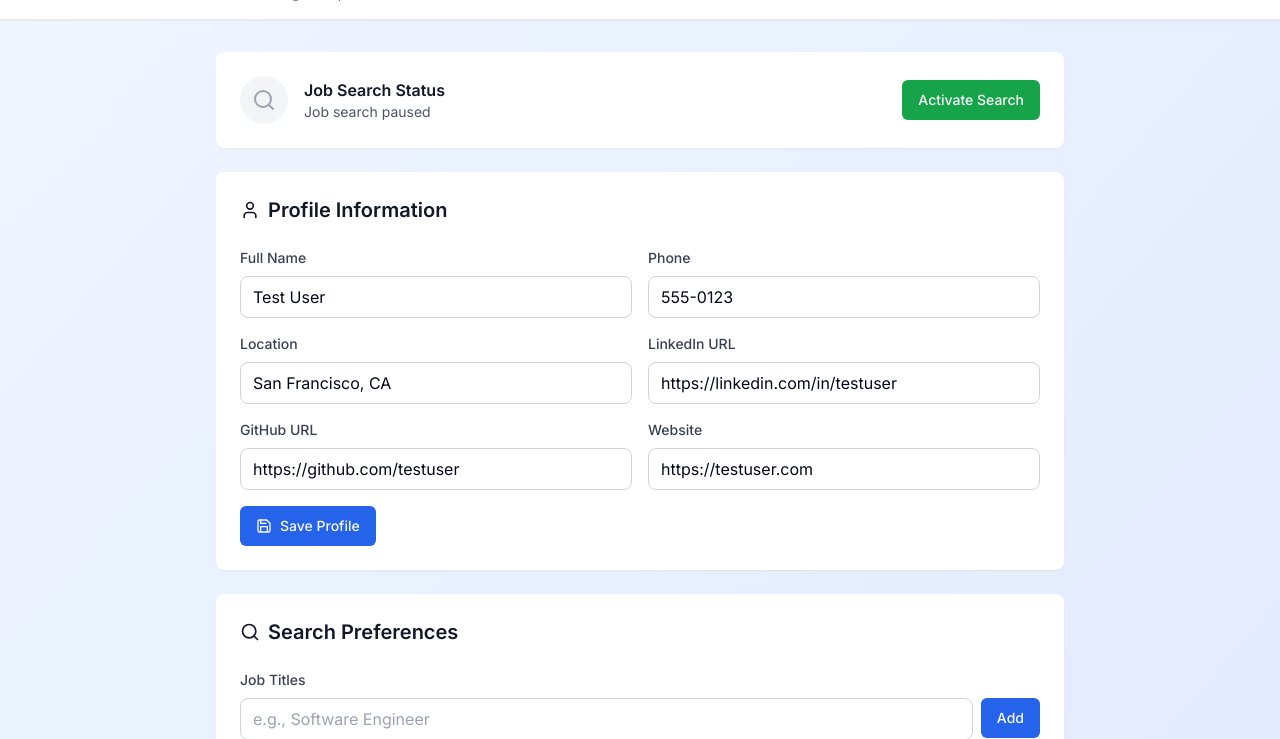
Test: SettingsPage › Error Handling › displays error when save fails
Check: the field showing "Test User" below "Full Name" is shown, box 240,276 -> 632,318
Click the button "Save Profile": (308, 526) 240,506 -> 376,546
(page scrolled)
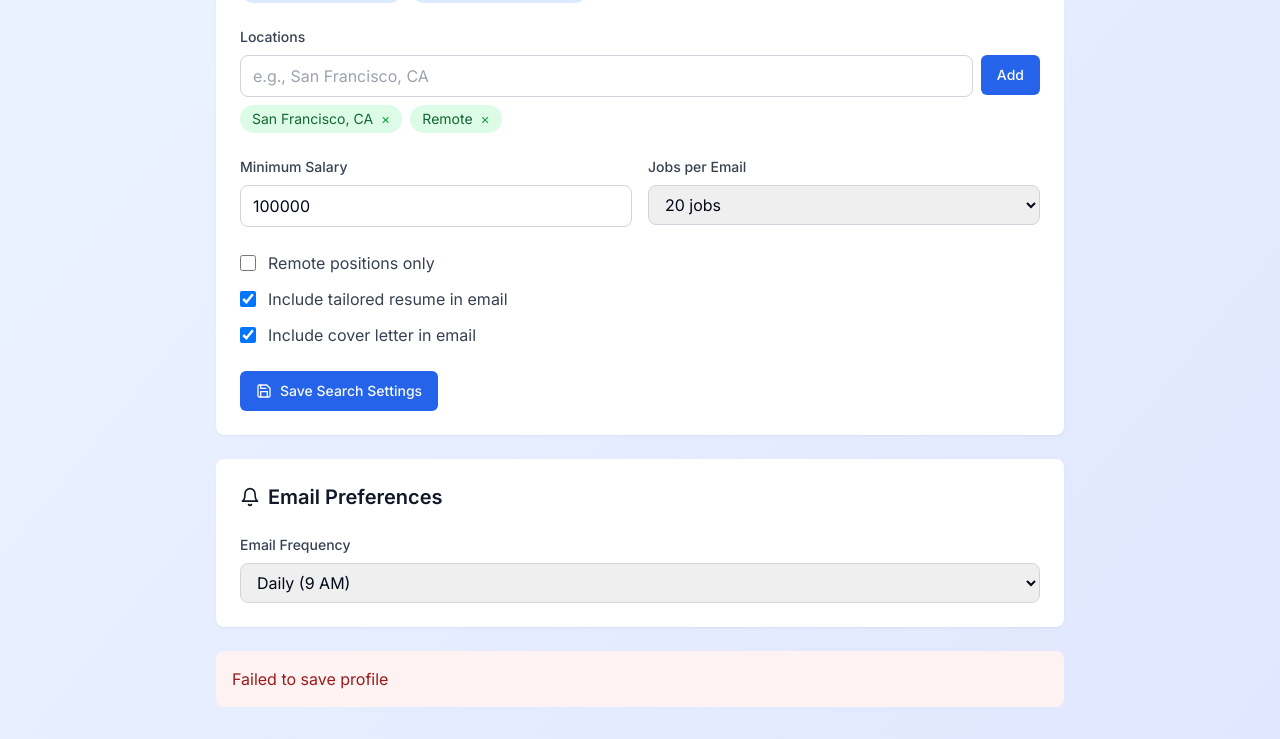
Check: the text "Failed to save profile" is shown, box 216,651 -> 1064,707
